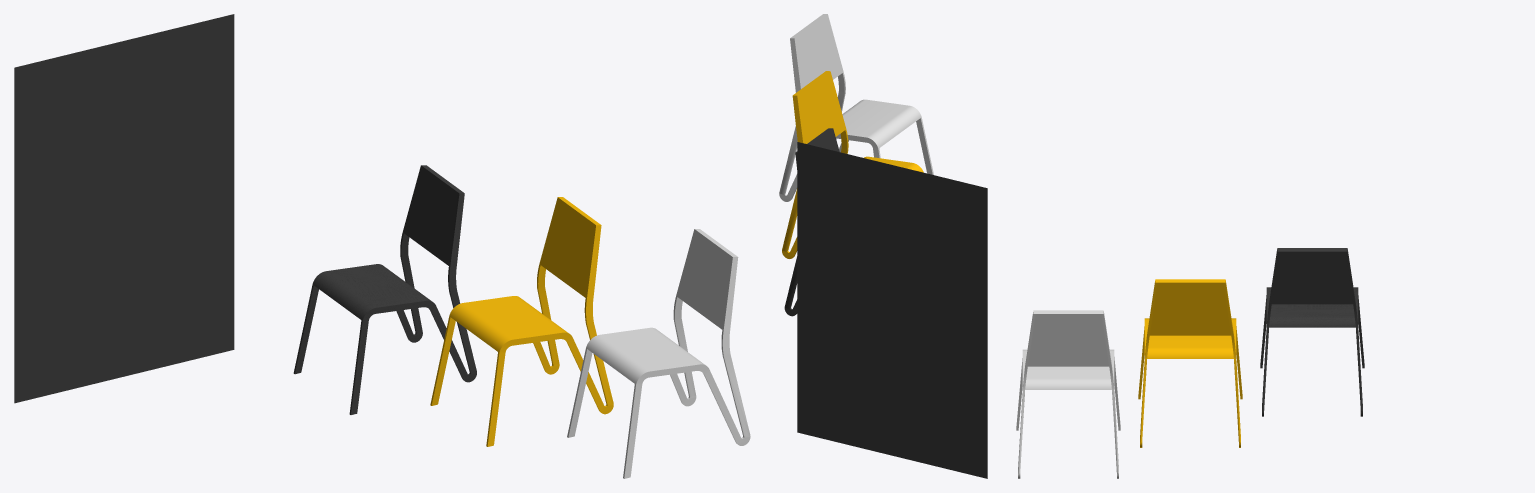
3 renders of one model, left to right at view 1: azimuth 30°, elevation 25°; view 2: azimuth 150°, elevation 25°; view 3: azimuth 270°, elevation 25°, orthographic. The views are drawn at different scales.
Parts seen in each view (by area): view 1: image_0, Component_1 (×6), group_4 (×2), group_5 (×2), group_1, group_2; view 2: image_0, group_4 (×2), Component_1 (×5), group_5 (×2), group_1; view 3: group_4 (×2), Component_1 (×6), group_1, group_5 (×2), group_2.
Boxes of the visible parts, bbox=[...] form: image_0: bbox=[14, 14, 234, 403]; Component_1 (×6): bbox=[293, 165, 750, 478]; group_4 (×2): bbox=[540, 198, 736, 329]; group_5 (×2): bbox=[450, 296, 703, 383]; group_1: bbox=[404, 166, 462, 265]; group_2: bbox=[314, 265, 430, 319]; image_0: bbox=[797, 142, 987, 478]; group_4 (×2): bbox=[791, 14, 845, 143]; Component_1 (×5): bbox=[779, 14, 933, 316]; group_5 (×2): bbox=[842, 100, 921, 171]; group_1: bbox=[807, 129, 838, 151]; group_4 (×2): bbox=[1028, 279, 1231, 366]; Component_1 (×6): bbox=[1016, 248, 1364, 478]; group_1: bbox=[1272, 248, 1352, 304]; group_5 (×2): bbox=[1025, 318, 1233, 389]; group_2: bbox=[1269, 287, 1355, 327].
Size of the model in its own units: 118 by 122 by 82.11.
